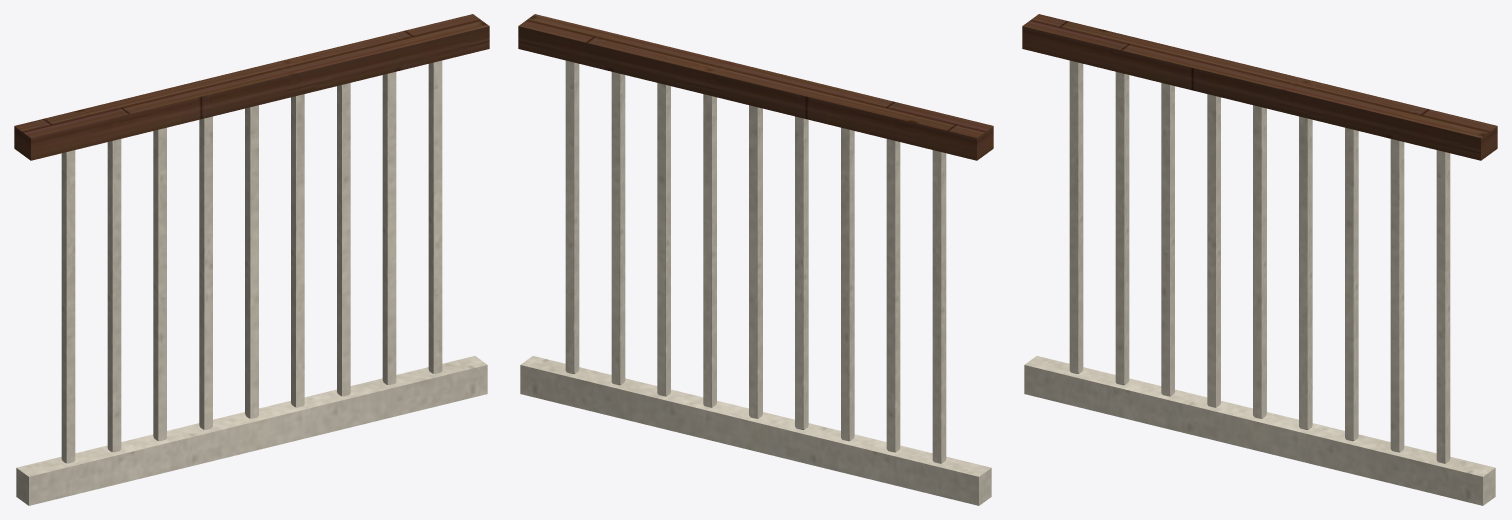
The model's file is rail_127_00.glb.
3 views of the same model, side by side, from view 1: azimuth 30°, elevation 25°; view 2: azimuth 150°, elevation 25°; view 3: azimuth 330°, elevation 25° (orthographic).
Parts seen in each view (by area): view 1: rail_127_00_trim, rail_127_00_wood; view 2: rail_127_00_trim, rail_127_00_wood; view 3: rail_127_00_trim, rail_127_00_wood.
Part boxes in pixels (box(x1,y1,x2,y2)): rail_127_00_trim: box(16, 60, 487, 505); rail_127_00_wood: box(14, 14, 489, 160); rail_127_00_trim: box(520, 60, 991, 505); rail_127_00_wood: box(518, 14, 993, 160); rail_127_00_trim: box(1024, 60, 1495, 505); rail_127_00_wood: box(1022, 14, 1497, 160).
Size of the model in its own units: 1.27 by 0.977 by 0.08.
Materials: 2 (2 with a texture image).
